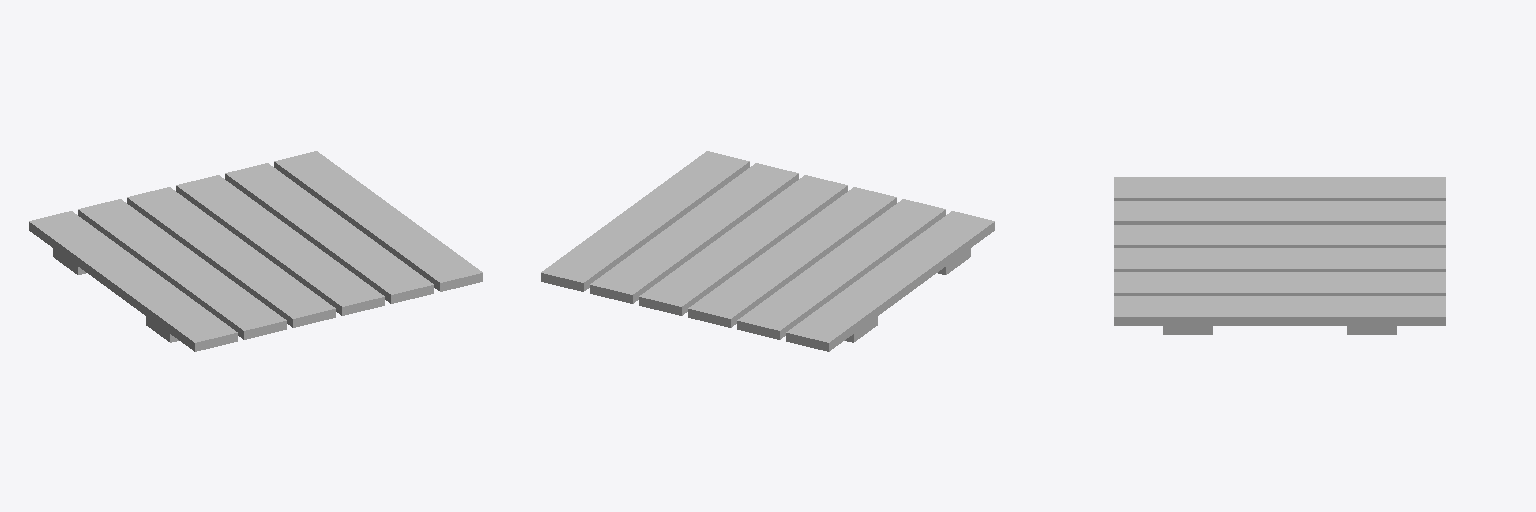
File: planks.obj
3 views of the same model, side by side, from view 1: azimuth 30°, elevation 25°; view 2: azimuth 150°, elevation 25°; view 3: azimuth 270°, elevation 25° (orthographic).
Visible parts, largest first — view 1: planks; view 2: planks; view 3: planks.
Part boxes in pixels (bbox=[...]): planks: bbox=[29, 151, 482, 351]; planks: bbox=[541, 151, 994, 351]; planks: bbox=[1114, 177, 1445, 334].
Size of the model in its own units: 1 by 0.06 by 1.